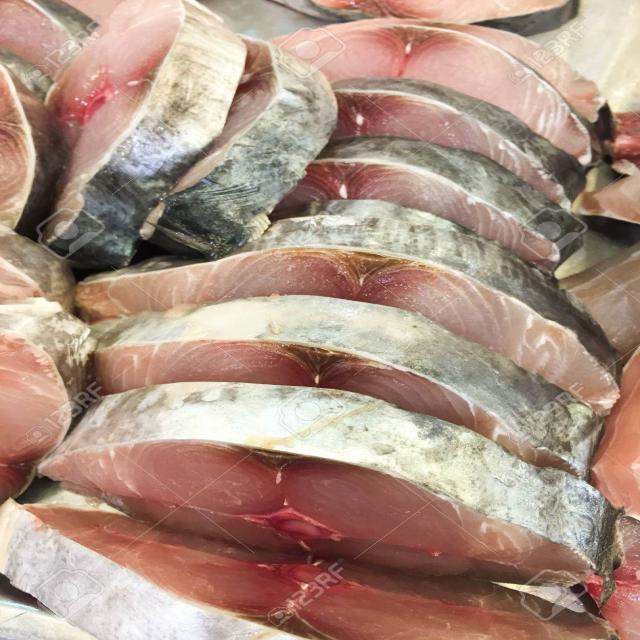Mackerel: (40, 382, 616, 588), (77, 215, 617, 414), (93, 295, 602, 479), (3, 502, 614, 640), (42, 0, 247, 267), (274, 19, 606, 164), (275, 136, 586, 274), (332, 78, 584, 208), (521, 240, 561, 269)
